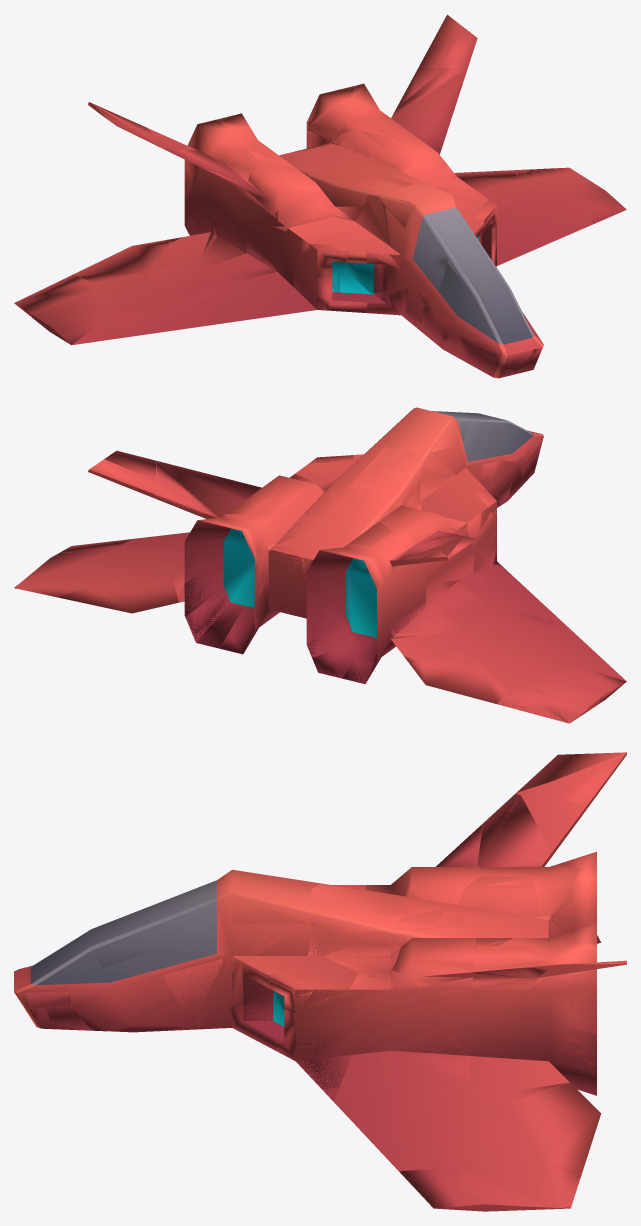
Rendered from spaceship.fbx.
3 renders of one model, top to bottom at view 1: azimuth 30°, elevation 25°; view 2: azimuth 150°, elevation 25°; view 3: azimuth 270°, elevation 25°, orthographic. The views are drawn at different scales.
Visible parts, largest first — view 1: ship, ship_cell.073, ship_cell.017, ship_cell.095, ship_cell.076, ship_cell.047, ship_cell.024, ship_cell.097, ship_cell.083, ship_cell.019, ship_cell.042, ship_cell.054 (+25 smaller); view 2: ship, ship_cell.073, ship_cell.047, ship_cell.091, ship_cell.095, ship_cell.059, ship_cell.011, ship_cell.024, ship_cell.083, ship_cell.054, ship_cell.017, ship_cell.076 (+28 smaller); view 3: ship, ship_cell.024, ship_cell.059, ship_cell.054, ship_cell.076, ship_cell.017, ship_cell.039, ship_cell.093, ship_cell.090, ship_cell.085, ship_cell.095, ship_cell.042 (+23 smaller).
Part boxes in pixels (box(x1,y1,x2,y2)): ship: box(32, 25, 626, 373); ship_cell.073: box(96, 266, 220, 335); ship_cell.017: box(203, 166, 332, 232); ship_cell.095: box(372, 69, 466, 139); ship_cell.076: box(164, 136, 265, 209); ship_cell.047: box(73, 240, 170, 284); ship_cell.024: box(515, 168, 615, 200); ship_cell.097: box(346, 194, 390, 292); ship_cell.083: box(32, 290, 105, 335); ship_cell.019: box(14, 274, 98, 317); ship_cell.042: box(393, 115, 452, 180); ship_cell.054: box(479, 183, 576, 217); ship: box(17, 407, 626, 723); ship_cell.073: box(459, 609, 592, 684); ship_cell.047: box(411, 651, 511, 704); ship_cell.091: box(332, 446, 422, 524); ship_cell.095: box(156, 461, 272, 517); ship_cell.059: box(57, 578, 178, 613); ship_cell.011: box(426, 534, 490, 616); ship_cell.024: box(18, 552, 106, 597); ship_cell.083: box(524, 666, 615, 708); ship_cell.054: box(95, 546, 184, 584); ship_cell.017: box(379, 505, 467, 576); ship_cell.076: box(360, 531, 464, 615); ship: box(14, 752, 626, 1211); ship_cell.024: box(458, 1157, 581, 1207); ship_cell.059: box(510, 1083, 601, 1173); ship_cell.054: box(415, 1084, 538, 1168); ship_cell.076: box(477, 793, 565, 877); ship_cell.017: box(366, 824, 482, 904); ship_cell.039: box(462, 1014, 596, 1101); ship_cell.093: box(497, 974, 596, 1034); ship_cell.090: box(70, 950, 172, 1031); ship_cell.085: box(275, 1020, 360, 1100); ship_cell.095: box(471, 946, 549, 1013); ship_cell.042: box(393, 948, 474, 1017).
Size of the model in its own units: 4.83 by 1.35 by 3.87.
1 material, 1 textured.
